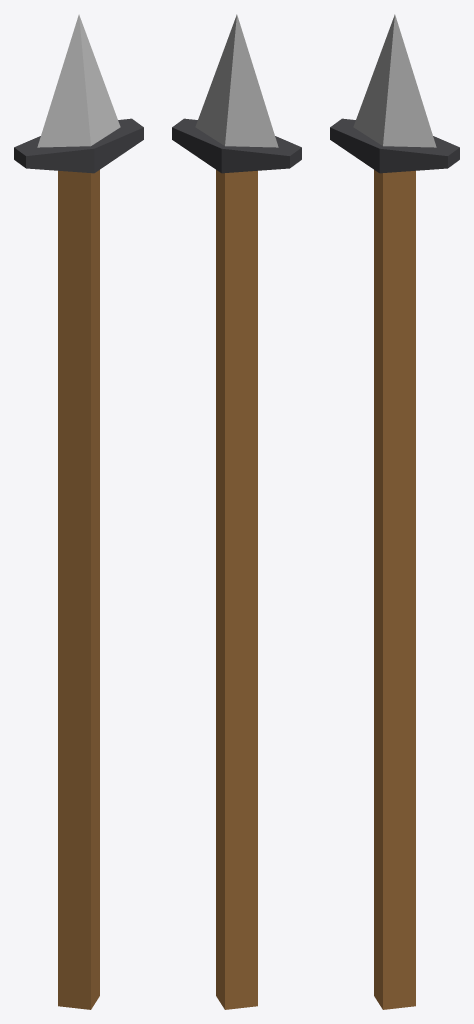
File: spear.fbx
The picture shows the model from 3 angles, left to right: view 1: azimuth 30°, elevation 25°; view 2: azimuth 150°, elevation 25°; view 3: azimuth 330°, elevation 25°; orthographic projection.
Visible parts, largest first — view 1: spear.002; view 2: spear.002; view 3: spear.002.
Part boxes in pixels (box(x1,y1,x2,y2)): spear.002: box(14, 14, 143, 1009); spear.002: box(172, 14, 301, 1009); spear.002: box(330, 14, 459, 1009).
Bounding box in the file's own units: 25 × 200 × 11.34.
